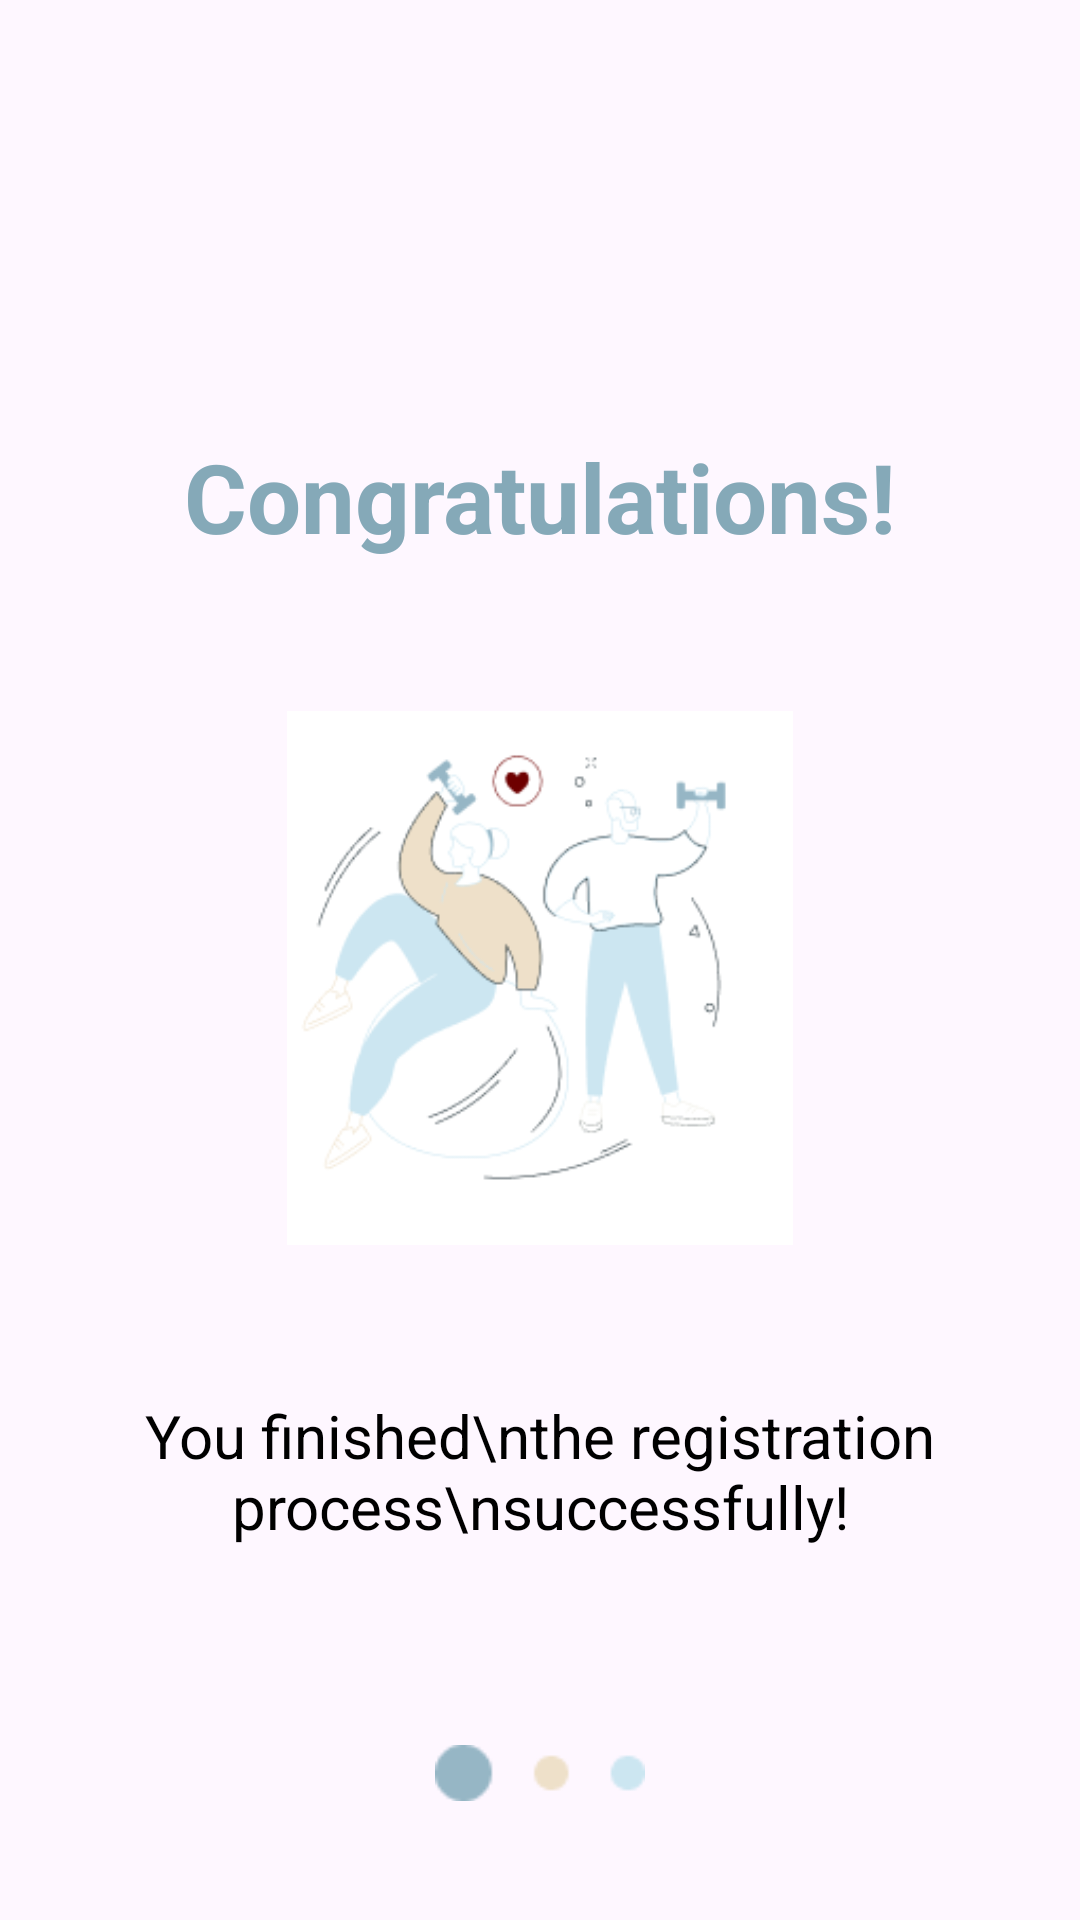

Screen size 1080*1920. Icon name, then its center in pixels as (x=x, y=y):
dots: (x=540, y=1773)
